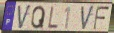1: (64, 7, 71, 30)
F: (92, 5, 111, 31)
L: (47, 6, 59, 30)
Q: (30, 6, 46, 30)
V: (17, 4, 32, 31), (80, 5, 95, 32)
